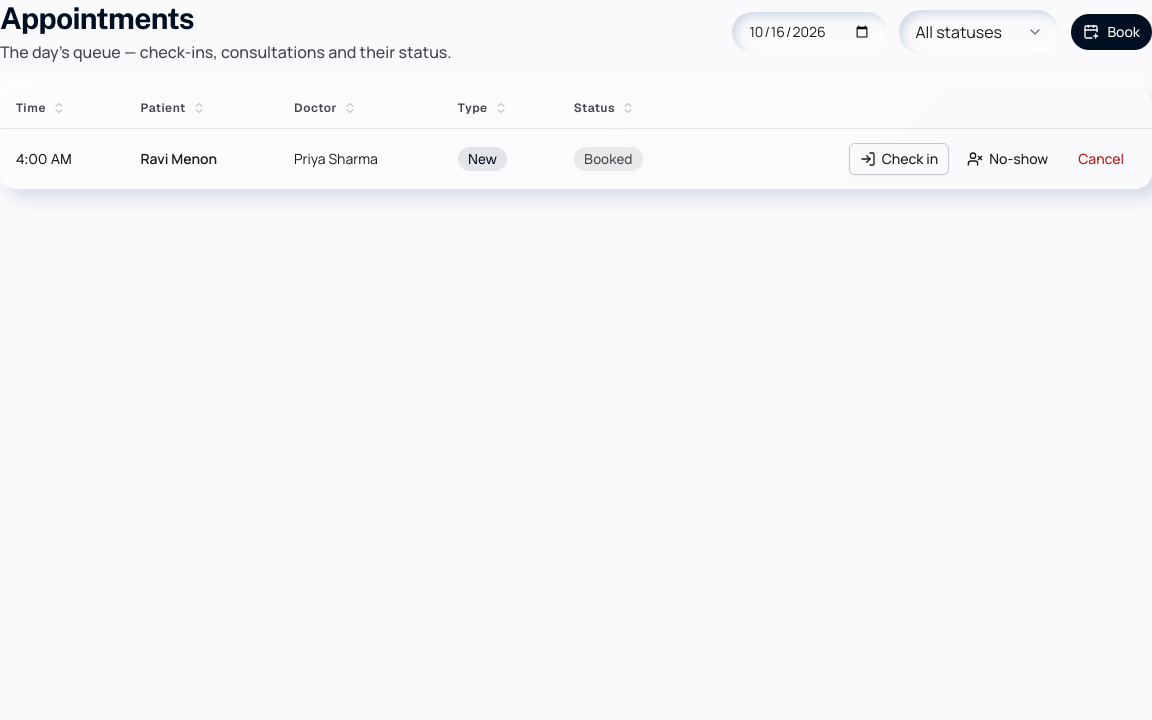
Test: appointment lifecycle actions › keeps the appointment when the cancel dialog is dismissed
Click the button with aria-label "Cancel appointment for Ravi Menon" at x=1101, y=159, box [1066,143,1136,175]
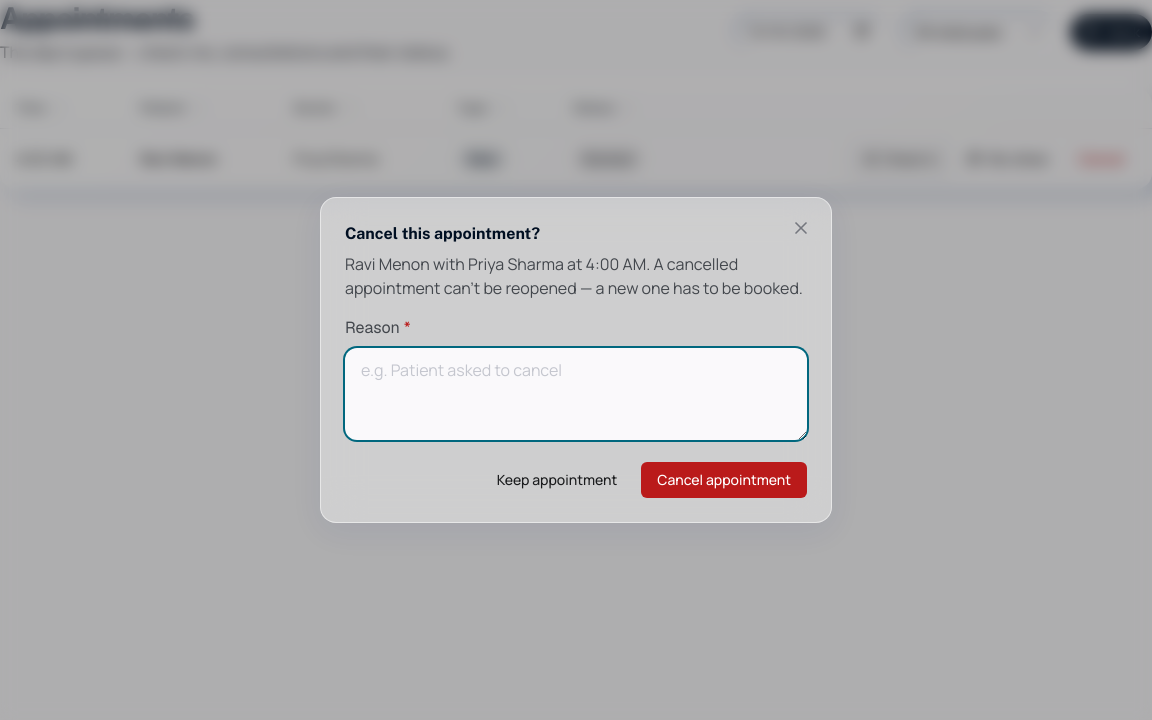
Click the button "Keep appointment" at x=557, y=480, box [481,462,633,498]
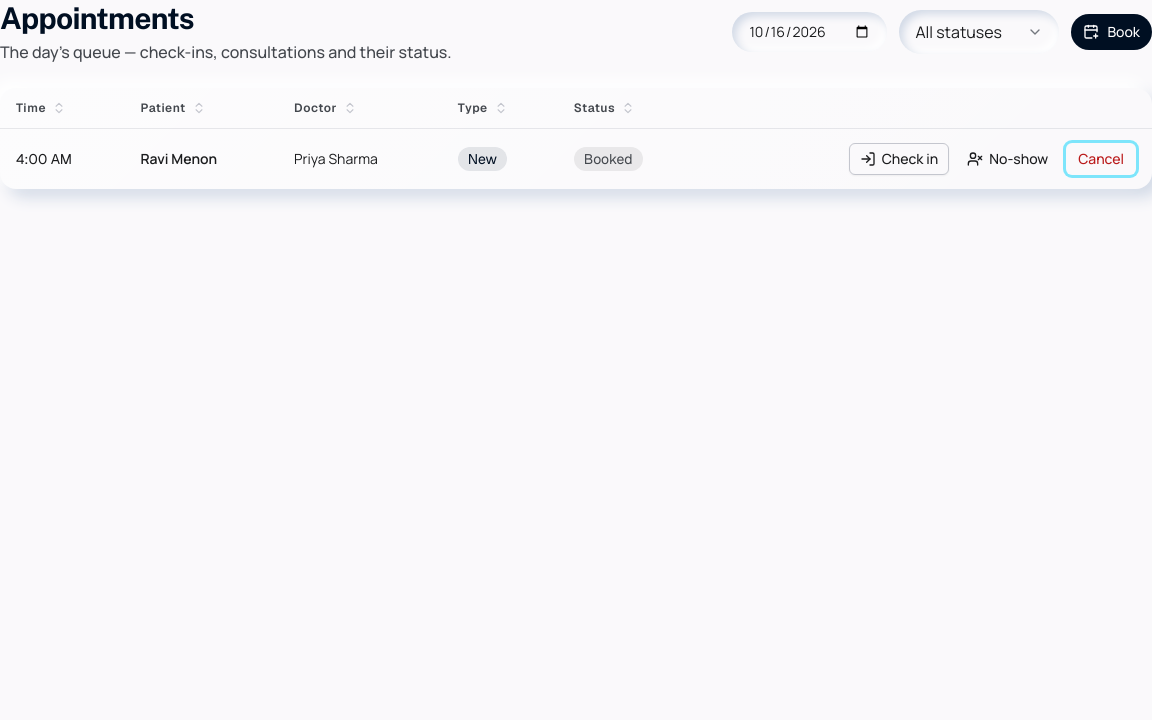
Expected: the text "Booked" is shown, [574,147,643,171]
Now the dialog is gone
